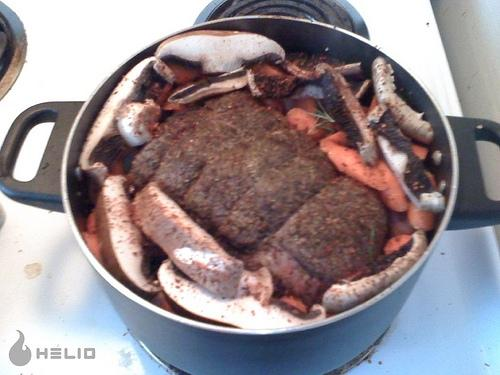carrot: (408, 171, 440, 231), (376, 160, 412, 212), (286, 107, 326, 140), (82, 231, 107, 268), (164, 60, 201, 85), (150, 290, 177, 314), (383, 235, 412, 254), (251, 62, 285, 76), (282, 295, 308, 313), (390, 221, 419, 237), (326, 130, 349, 146), (161, 102, 190, 114), (411, 142, 429, 161), (298, 98, 318, 114), (86, 208, 97, 235), (367, 94, 379, 117), (110, 157, 125, 175)
mushroom: (130, 182, 244, 298), (81, 56, 175, 186), (157, 258, 325, 330), (321, 228, 427, 314), (366, 102, 446, 213), (96, 176, 164, 302), (314, 63, 380, 166), (154, 30, 286, 76), (167, 61, 297, 104), (371, 56, 433, 144), (279, 53, 363, 82)
